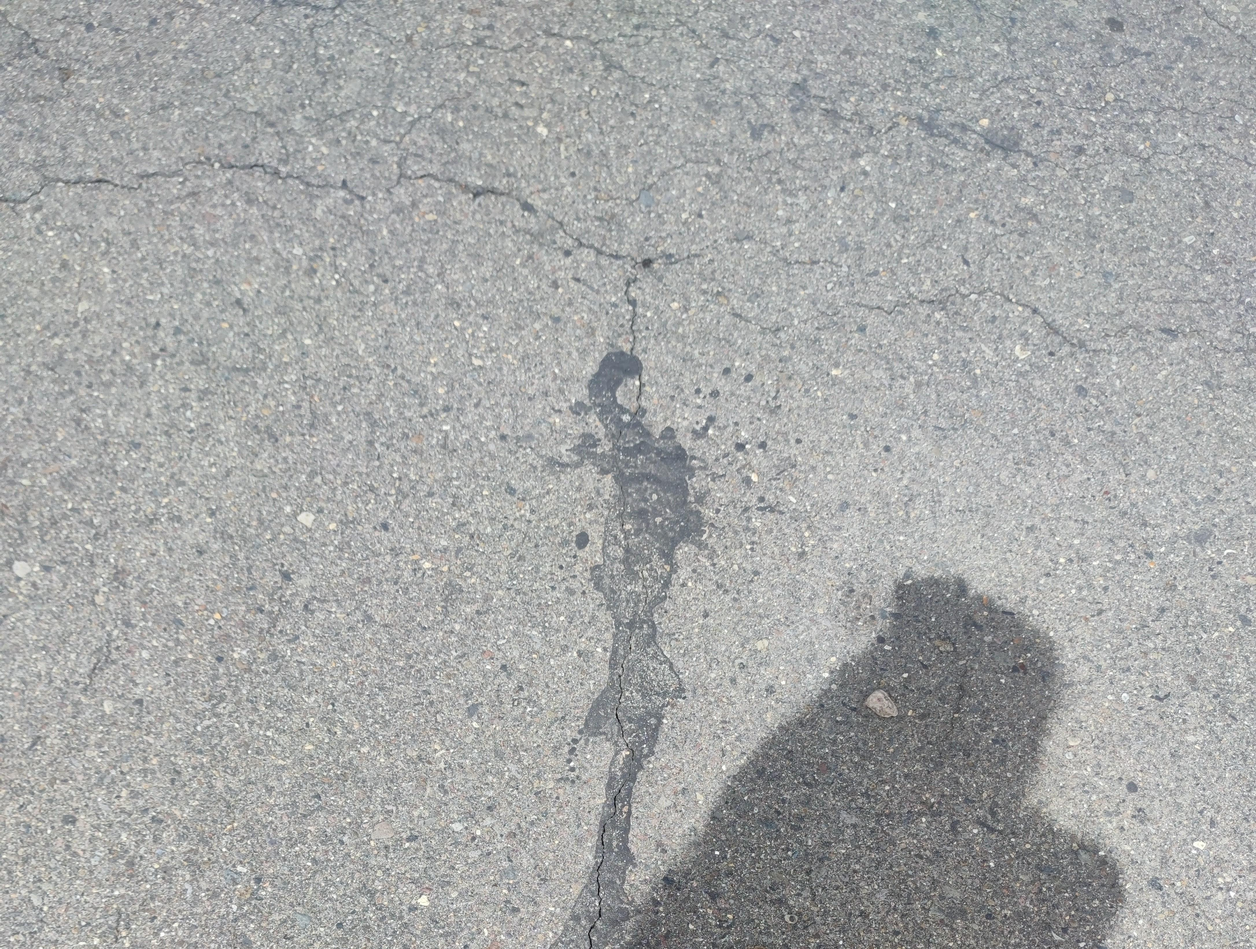GRIETA: (401, 172, 631, 262), (588, 632, 634, 949), (844, 286, 1076, 346), (184, 160, 367, 203), (616, 263, 643, 444), (0, 178, 144, 205), (732, 310, 841, 333)
PIEL DE COCODRILO: (244, 0, 1256, 174)
